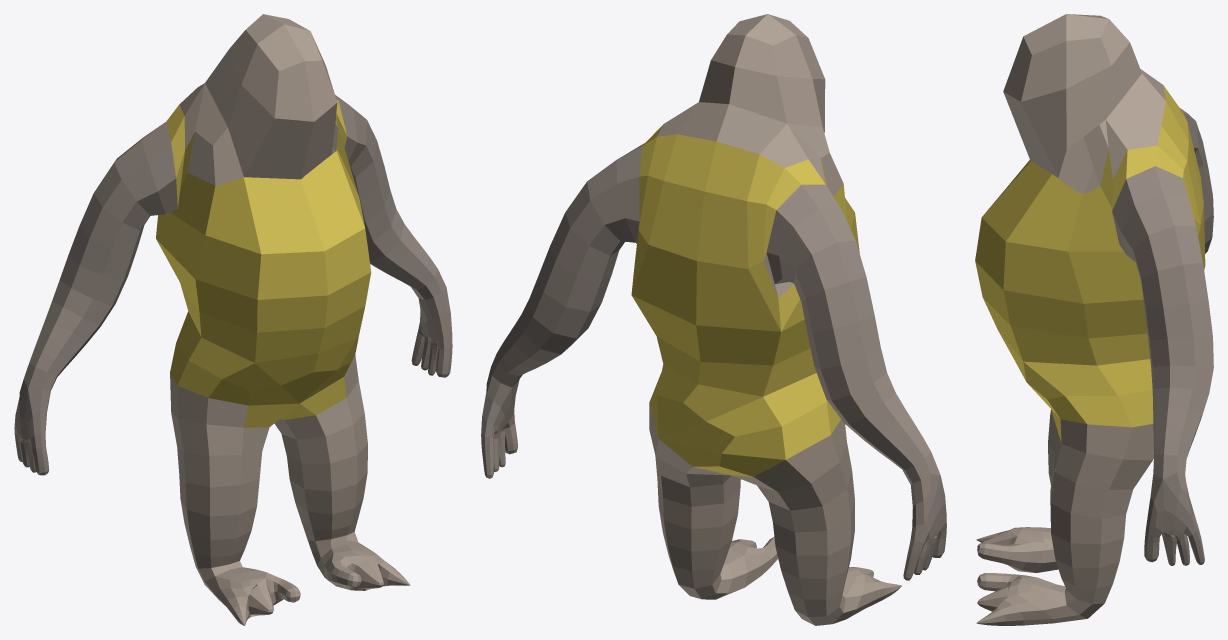
The model's file is TestGordoPartido.fbx.
The picture shows the model from 3 angles, left to right: view 1: azimuth 30°, elevation 25°; view 2: azimuth 150°, elevation 25°; view 3: azimuth 270°, elevation 25°; orthographic projection. The views are drawn at different scales.
Parts seen in each view (by area): view 1: Piernas; view 2: Piernas; view 3: Piernas.
Part boxes in pixels (x1,y1,x2,y2): Piernas: (14,14,452,625); Piernas: (481,14,946,625); Piernas: (975,14,1213,625).
Size of the model in its own units: 368 by 466 by 174.
